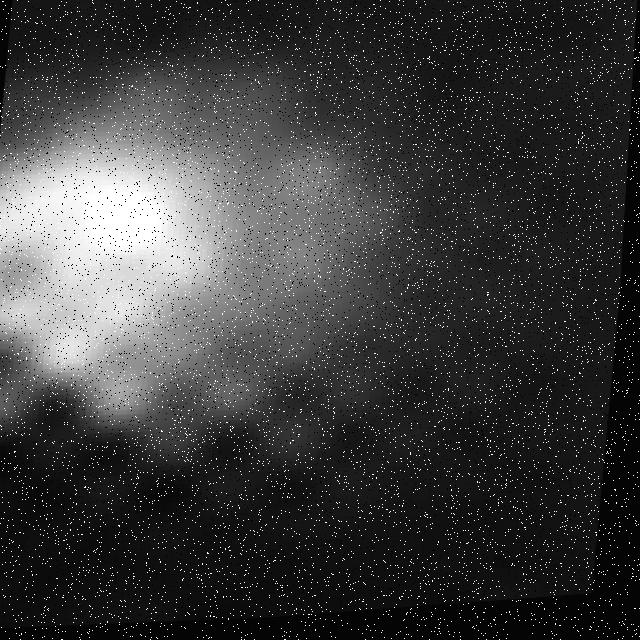person: (1, 9, 506, 447)
